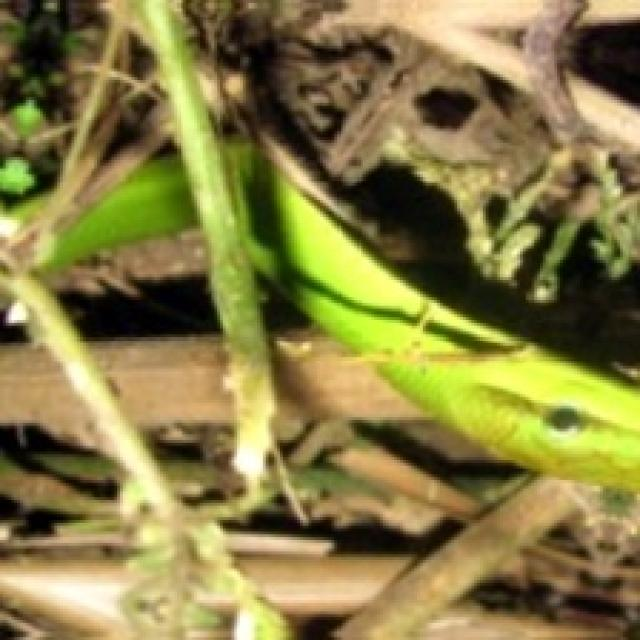red-tailed green ratsnake: (251, 166, 640, 491), (50, 160, 195, 267)
